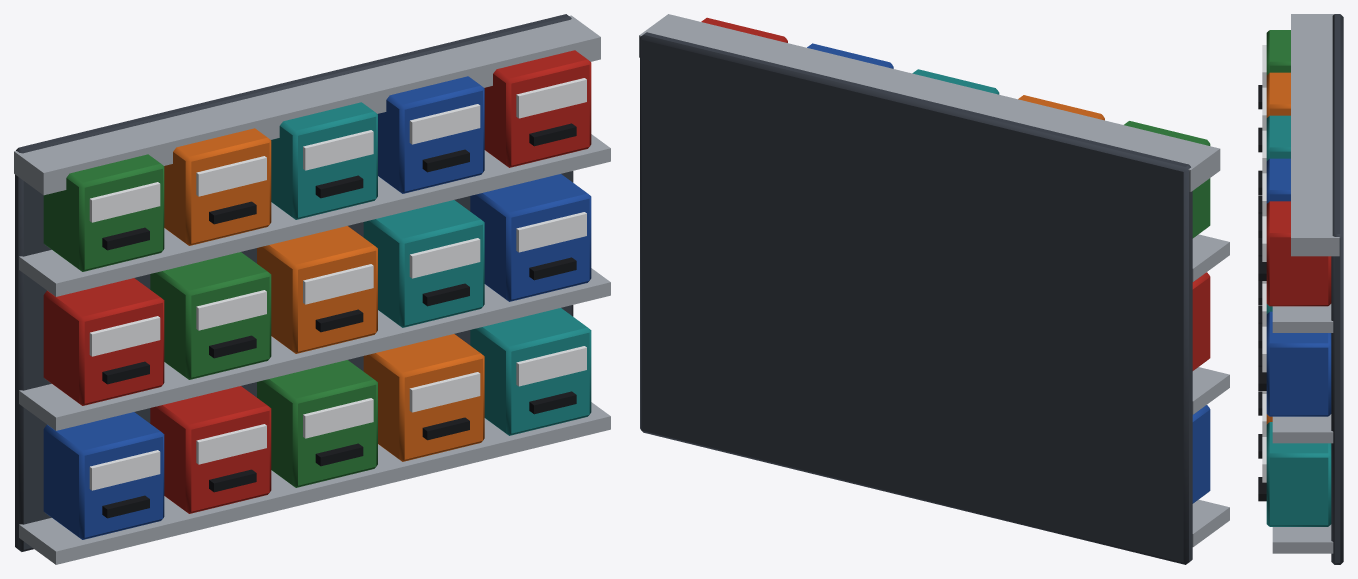
File: engtool_wall_parts_bins.glb
3 views of the same model, side by side, from view 1: azimuth 30°, elevation 25°; view 2: azimuth 150°, elevation 25°; view 3: azimuth 270°, elevation 25° (orthographic). The views are drawn at different scales.
Visible parts, largest first — view 1: engtool_wall_parts_bins; view 2: engtool_wall_parts_bins; view 3: engtool_wall_parts_bins.
Part boxes in pixels (x1,y1,x2,y2): engtool_wall_parts_bins: (14,14,610,564); engtool_wall_parts_bins: (639,14,1229,564); engtool_wall_parts_bins: (1258,14,1343,564).
Bounding box in the file's own units: 1.31 × 0.9 × 0.21.
